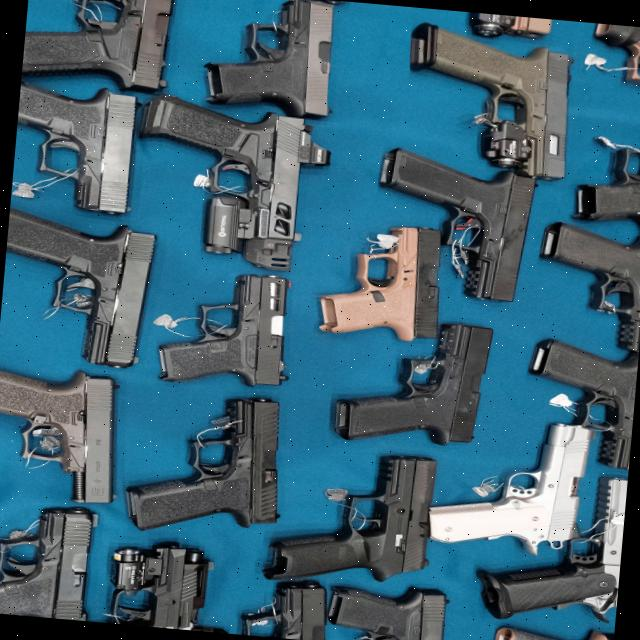Handgun: (130, 92, 314, 274), (362, 143, 545, 314), (403, 21, 589, 181), (266, 442, 454, 585), (133, 386, 302, 536), (0, 352, 158, 512), (480, 462, 628, 630), (0, 205, 162, 357), (432, 410, 594, 558), (341, 302, 498, 452), (187, 0, 356, 119), (0, 480, 139, 624), (10, 79, 158, 207), (321, 214, 458, 348), (156, 267, 299, 392), (529, 332, 639, 480), (539, 212, 640, 357), (19, 0, 169, 94), (212, 544, 353, 640), (109, 543, 220, 632), (581, 109, 640, 233), (338, 568, 432, 640), (579, 27, 640, 107), (517, 620, 610, 640)
